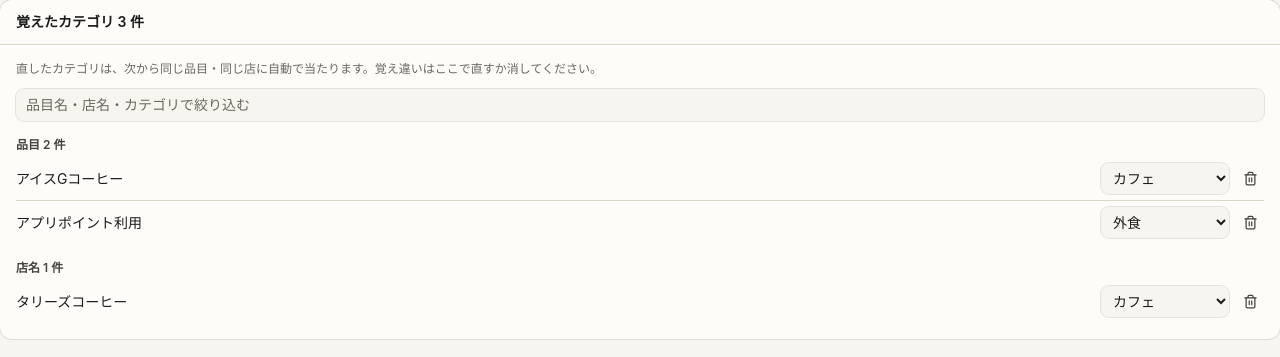
Test: 覚えたカテゴリの一覧 › 品目名やカテゴリ名で絞り込める
Type "ポイント" into the field named "覚えたカテゴリを絞り込む".
click(640, 105); type("ポイント")  # box left=16, top=89, right=1264, bottom=121
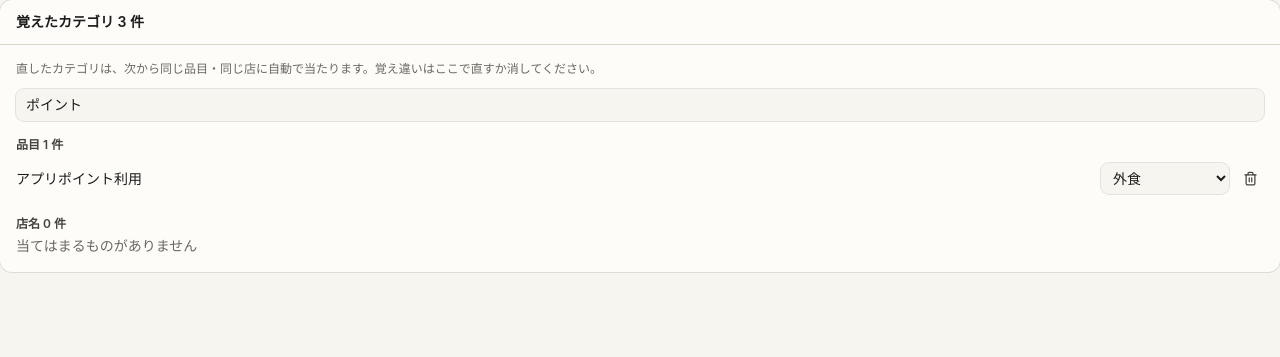
Expected: the text "アプリポイント利用" is shown, left=16, top=170, right=142, bottom=186
Now the text "アイスGコーヒー" is gone
